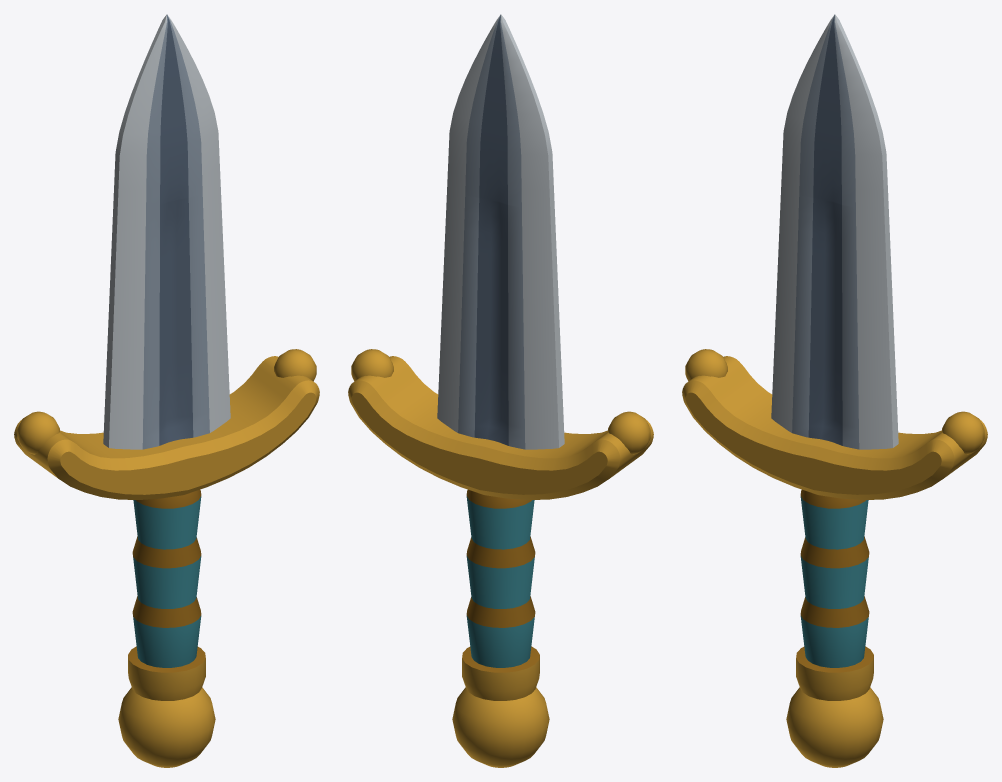
Rendered from Dagger_18.glb.
3 views of the same model, side by side, from view 1: azimuth 30°, elevation 25°; view 2: azimuth 150°, elevation 25°; view 3: azimuth 330°, elevation 25° (orthographic).
Visible parts, largest first — view 1: Dagger_18; view 2: Dagger_18; view 3: Dagger_18.
Boxes of the visible parts, bbox=[...] form: Dagger_18: bbox=[14, 14, 319, 767]; Dagger_18: bbox=[348, 14, 653, 767]; Dagger_18: bbox=[682, 14, 987, 767].
Size of the model in its own units: 1.64 by 3.99 by 0.47.
